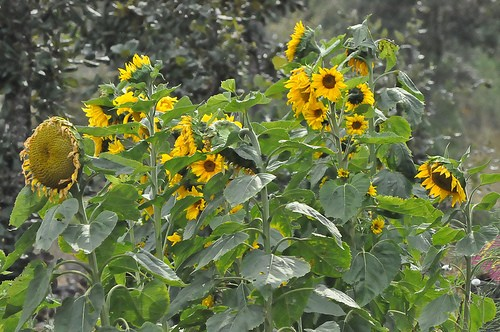flower: (414, 156, 469, 210), (309, 63, 348, 104), (189, 152, 227, 185), (301, 99, 330, 130), (344, 113, 370, 138)
